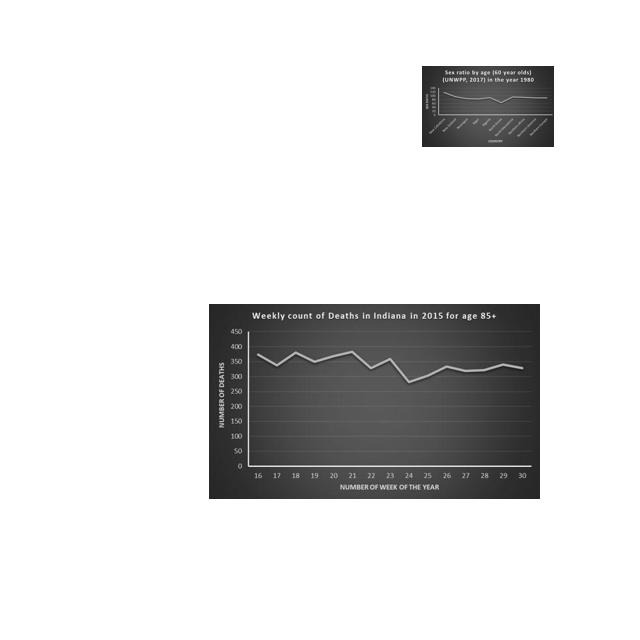Graph: (209, 304, 540, 499), (422, 66, 554, 147)
